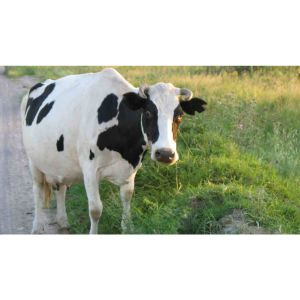cow: (18, 69, 206, 232)
